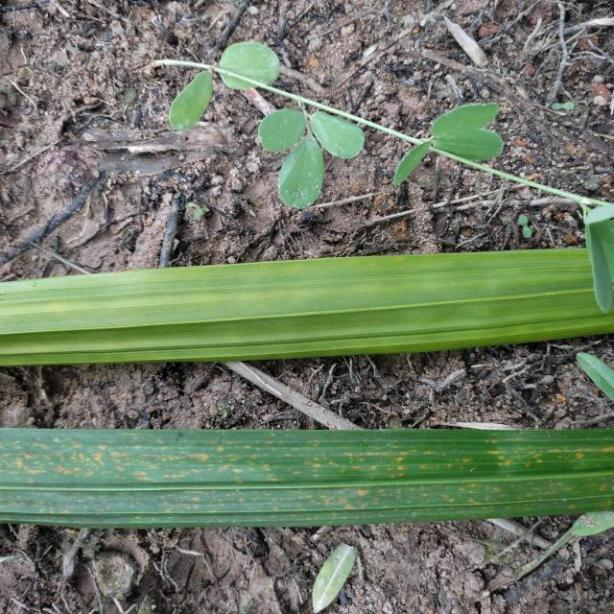nitrogen: (0, 240, 614, 366), (3, 423, 614, 526)
